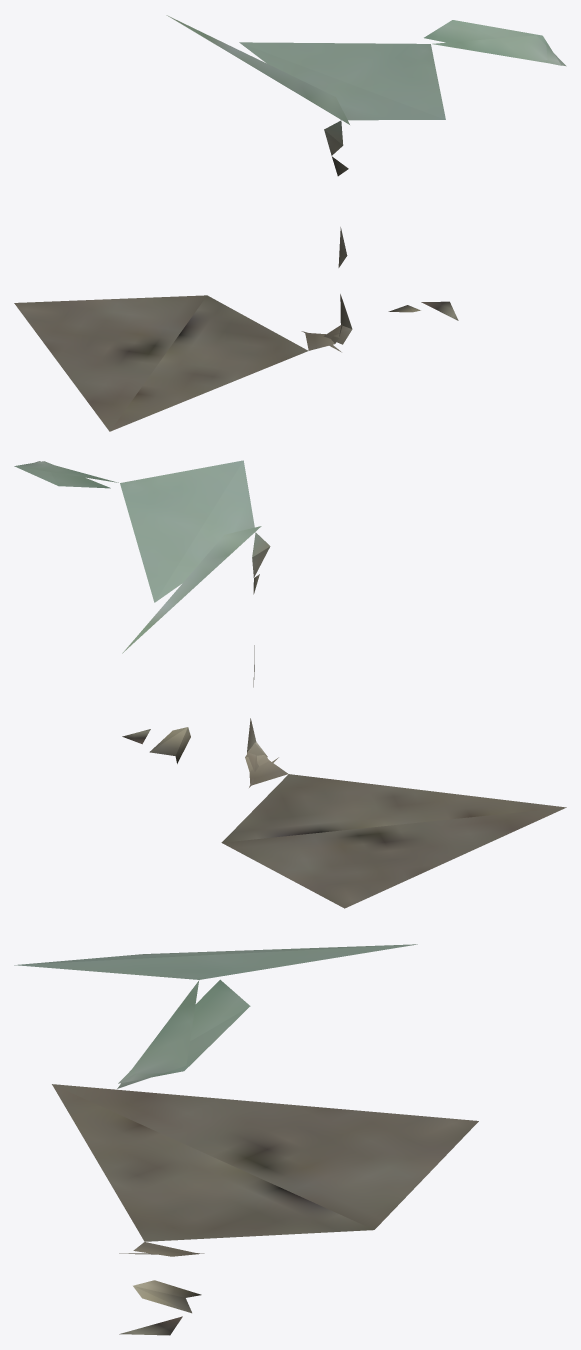
Rendered from hero-brandenburger-tor-3898_58193-material-2.glb.
3 views of the same model, one above another, from view 1: azimuth 30°, elevation 25°; view 2: azimuth 150°, elevation 25°; view 3: azimuth 270°, elevation 25° (orthographic). The views are drawn at different scales.
Parts seen in each view (by area): view 1: world; view 2: world; view 3: world.
Boxes of the visible parts, x1,y1,x2,y2 form: world: (14, 15, 566, 431); world: (14, 460, 566, 908); world: (14, 944, 478, 1335).
Size of the model in its own units: 21.25 by 10.95 by 15.25.
1 material, 1 textured.
